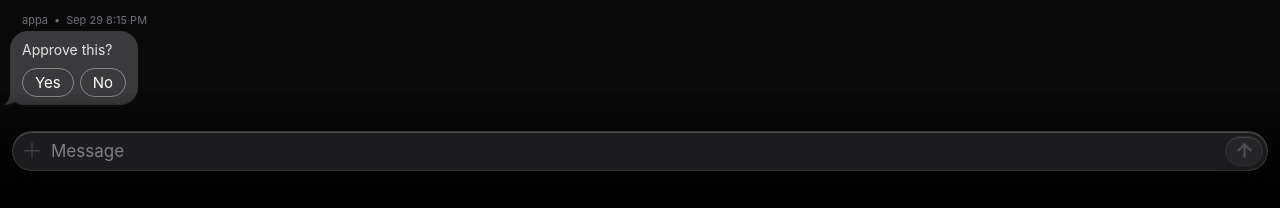
Scenario: ThreadPane › tapping a choice POSTs /cli/thread/answer with the option text
The width and height of the screenshot is (1280, 208).
What coordinates should you click on to do the following:
click the button "Yes"
I would click on:
 (48, 82)
Its box is left=22, top=68, right=74, bottom=96.
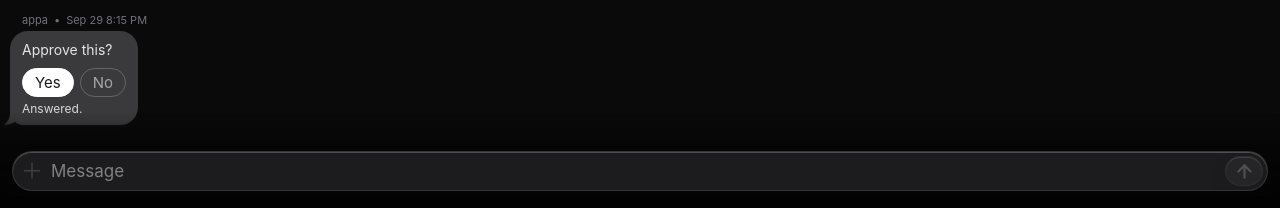
Expected: the text "Answered." is shown, left=22, top=100, right=82, bottom=116
Expected: the button "Yes" is disabled, left=22, top=68, right=74, bottom=96
